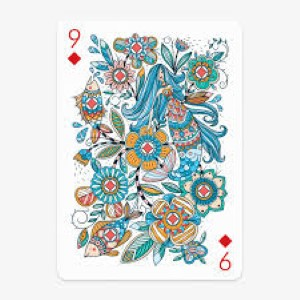NineOfDiamonds: (50, 17, 250, 285)
